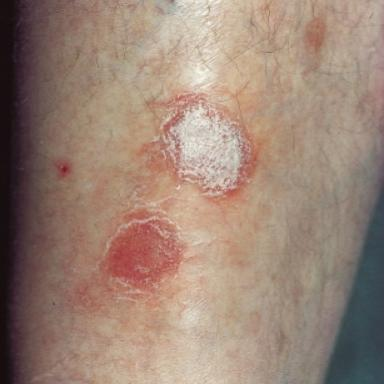Psoriasis: (155, 94, 259, 199)
